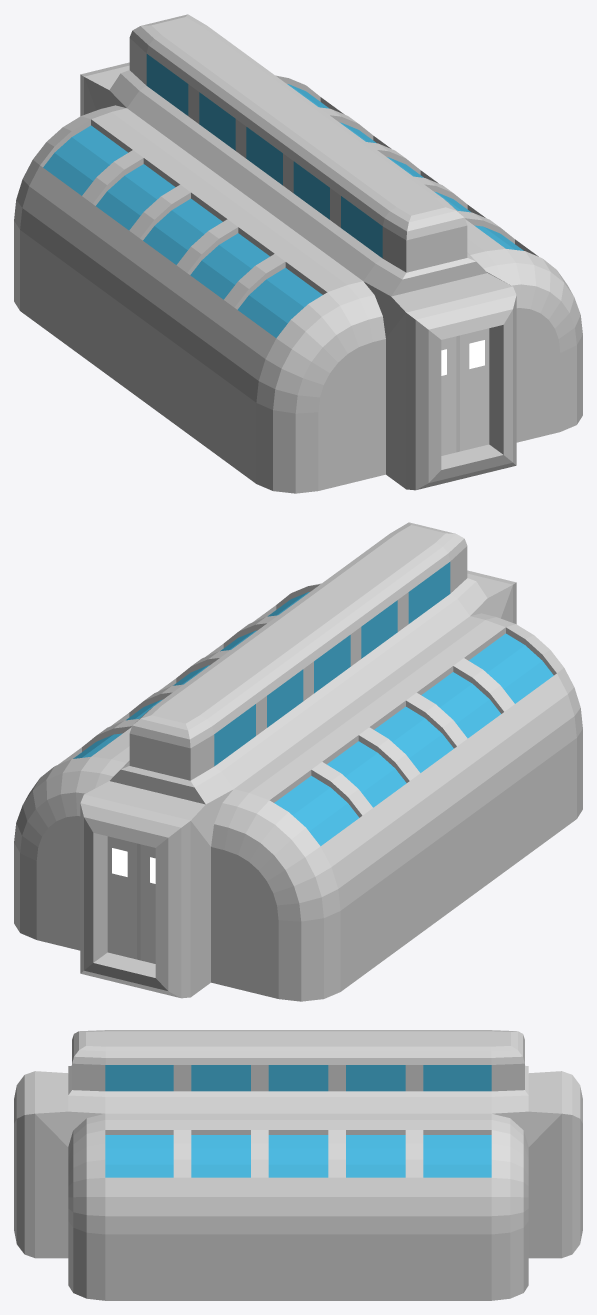
Rendered from Sleeper module.fbx.
The picture shows the model from 3 angles, top to bottom: view 1: azimuth 30°, elevation 25°; view 2: azimuth 150°, elevation 25°; view 3: azimuth 270°, elevation 25°; orthographic projection. The views are drawn at different scales.
Visible parts, largest first — view 1: Sleeoing Module.001; view 2: Sleeoing Module.001; view 3: Sleeoing Module.001.
Part boxes in pixels (x1=…): Sleeoing Module.001: x1=14, y1=14, x2=582, y2=493; Sleeoing Module.001: x1=14, y1=522, x2=582, y2=1001; Sleeoing Module.001: x1=14, y1=1030, x2=582, y2=1300.
Bounding box in the file's own units: 546 × 394 × 1028.
